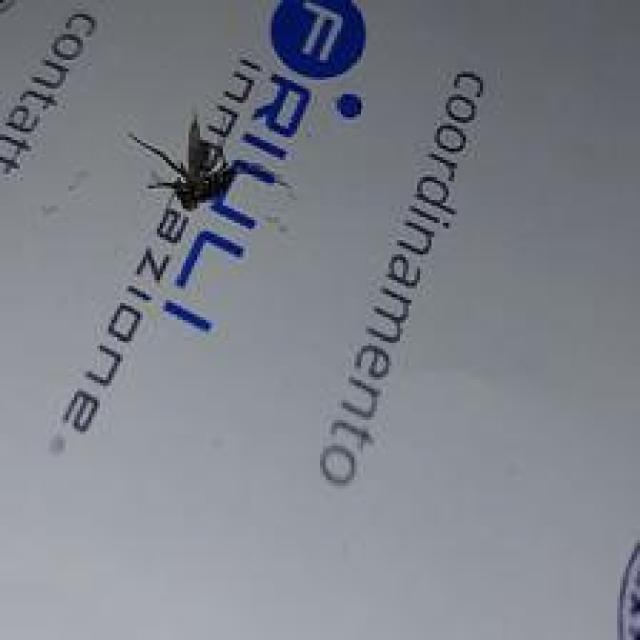Aedes albopictus: (127, 113, 239, 213)
